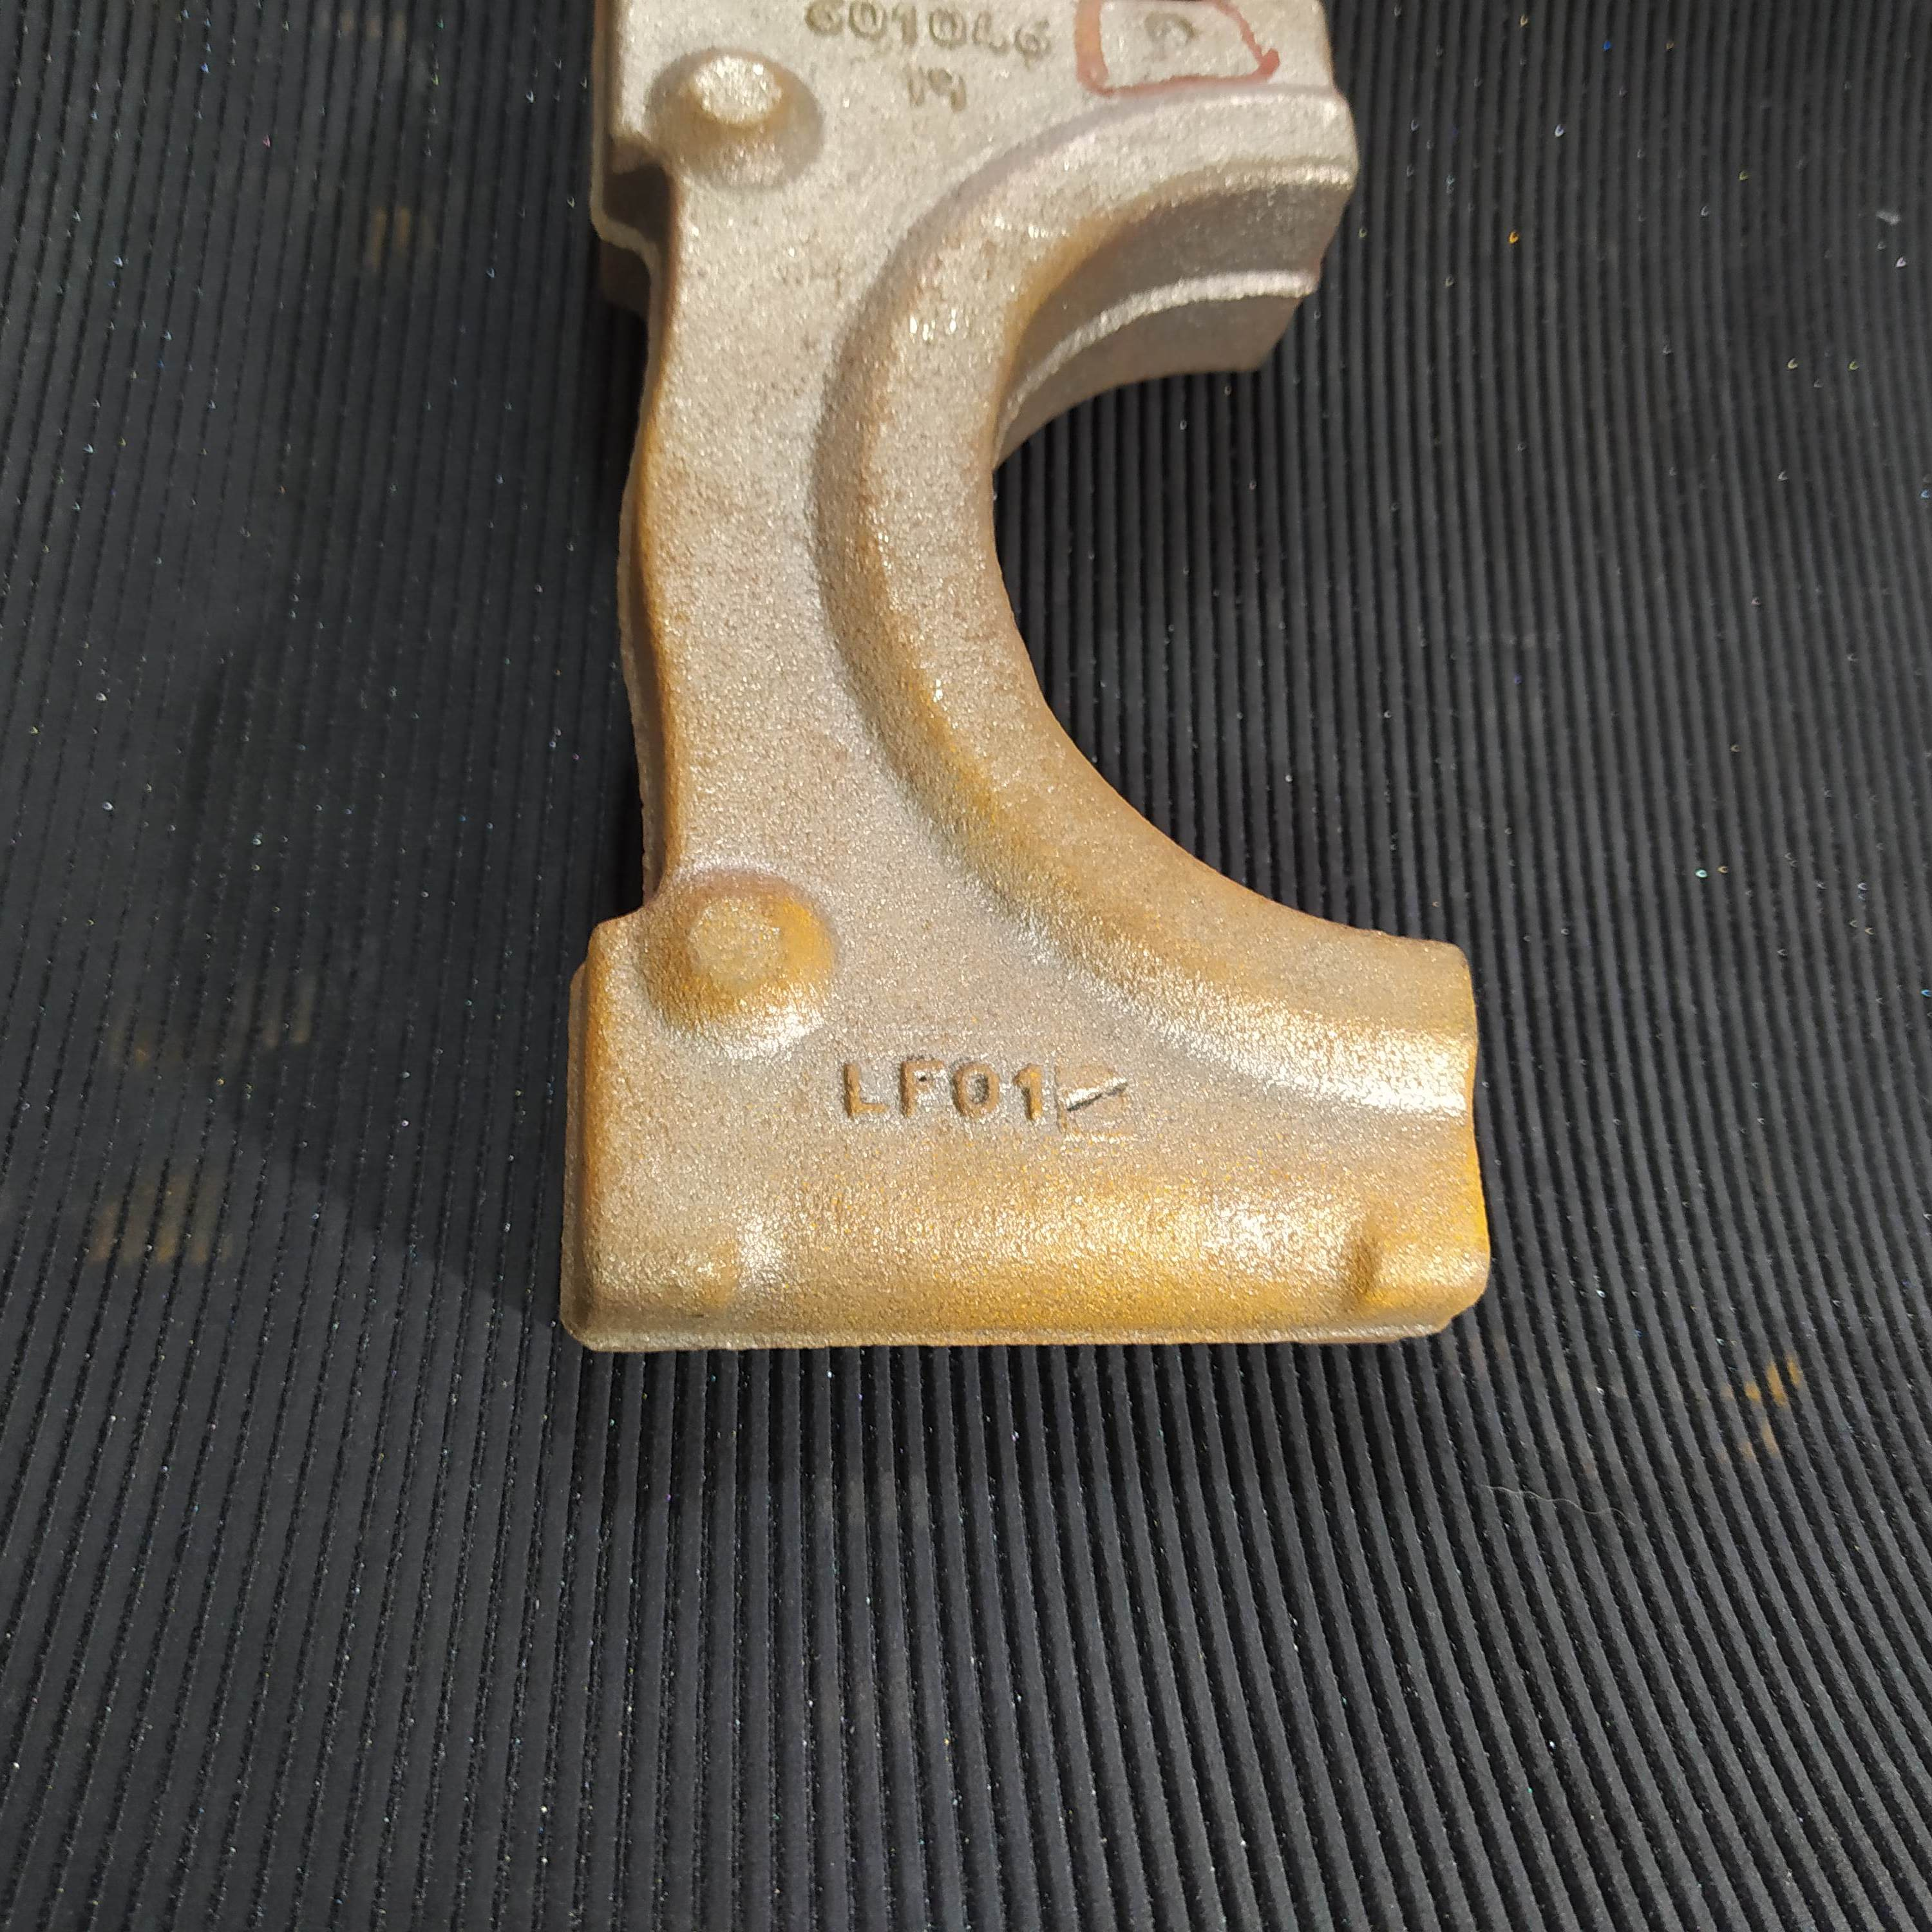buraco: (1143, 7, 1200, 65)
